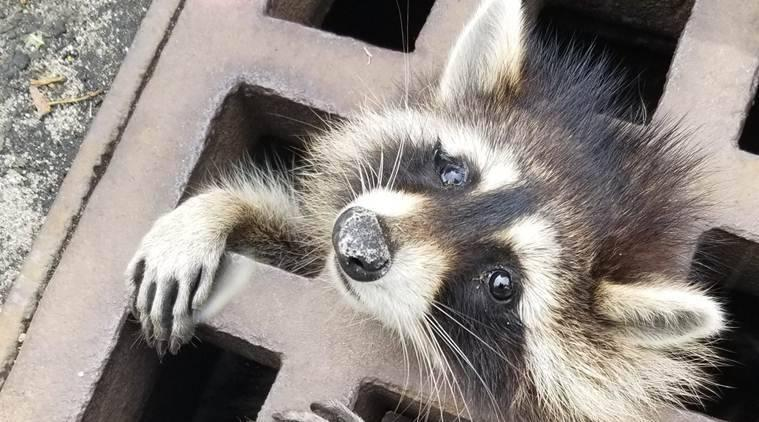raccoon: (132, 15, 717, 422)
